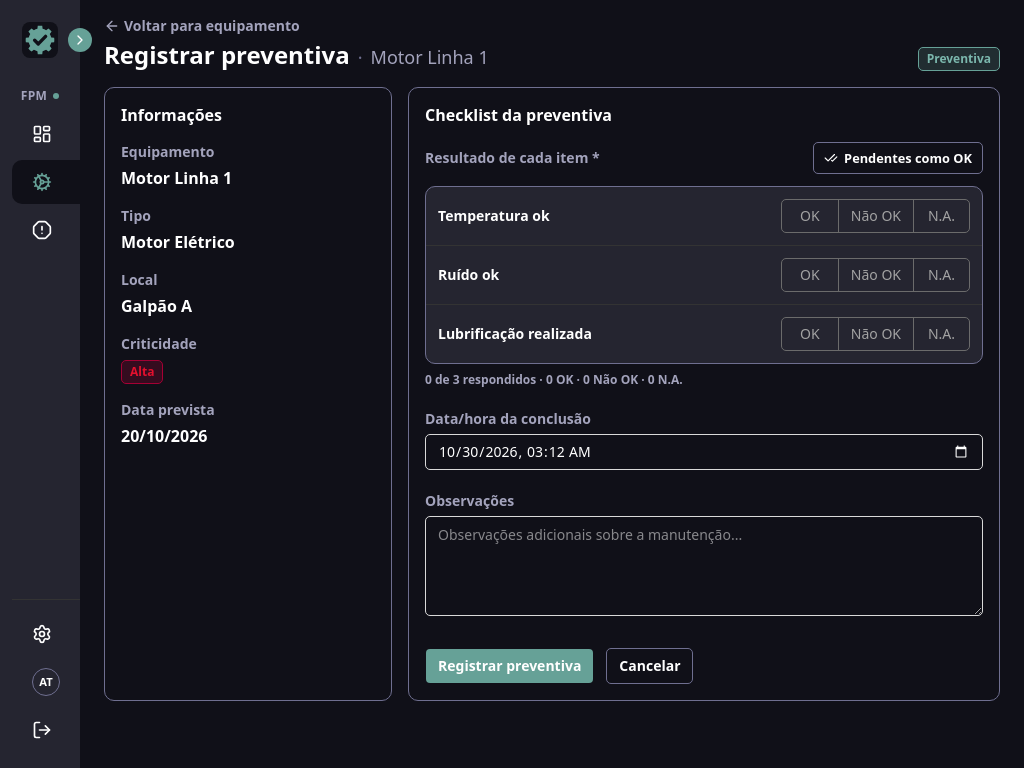
Test case: Registro de manutenção › preventiva › avisa e não envia quando a data da conclusão está vazia
Click the radio button labelled "OK" in the row of "Ruído ok" at [810, 275], box [782,259,838,291]
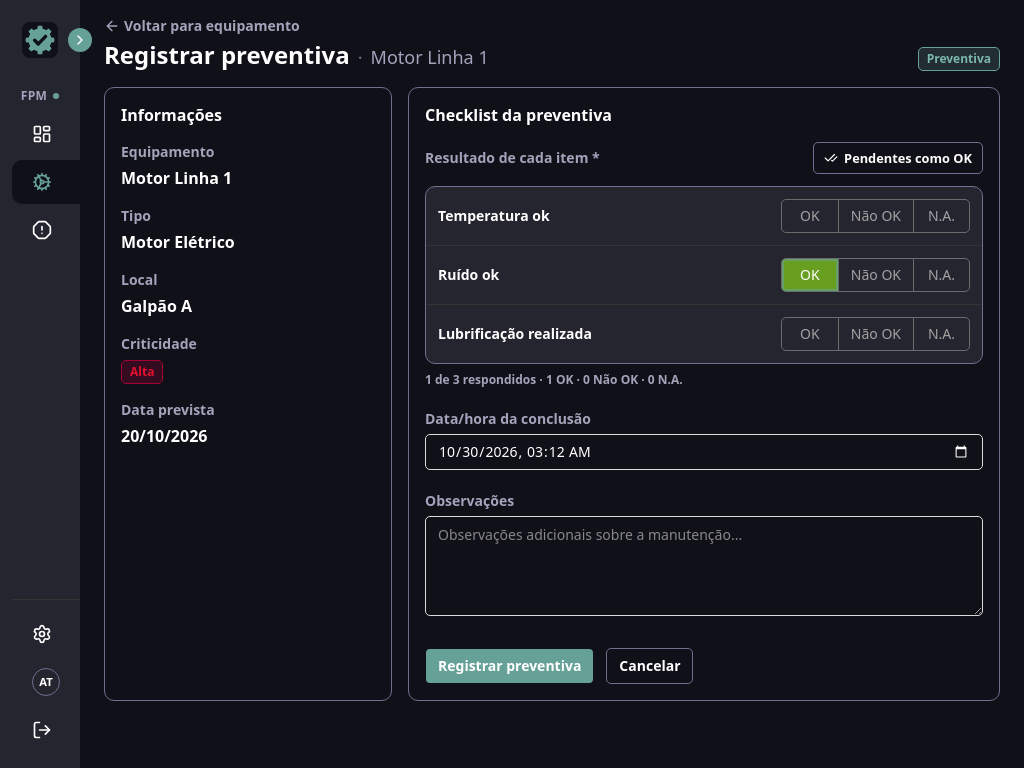
Click the button "Pendentes como OK" at [898, 158], box [813,142,983,174]
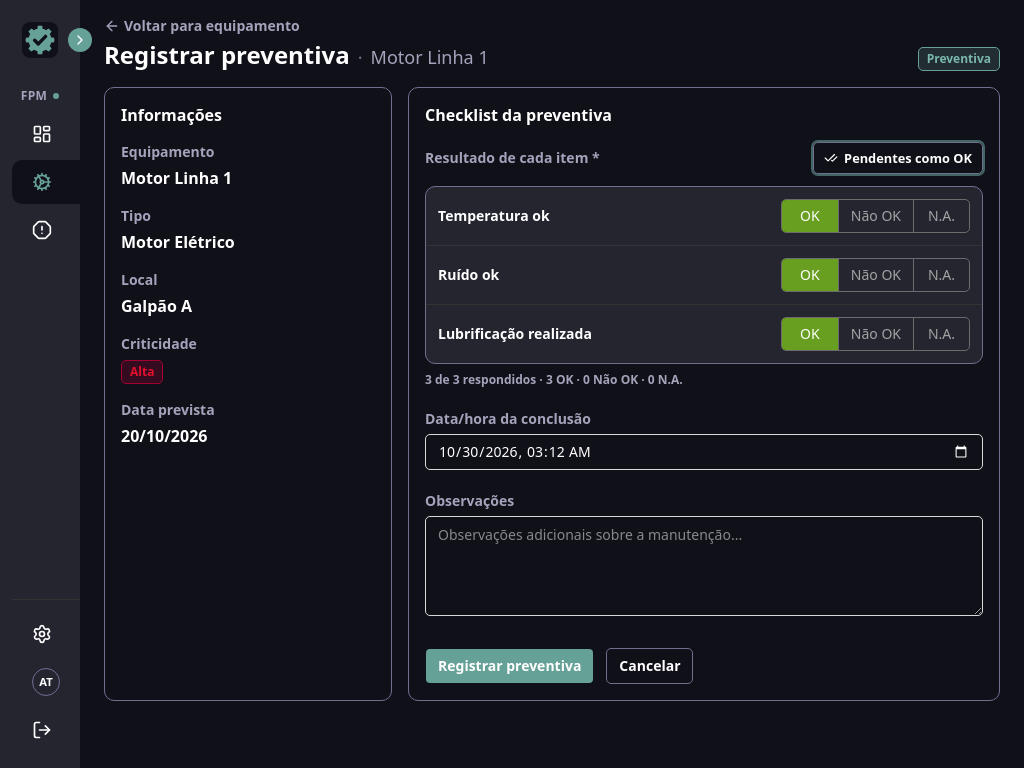
Clear the field labelled "Data/hora da conclusão" at [704, 452], box [425,434,983,470]
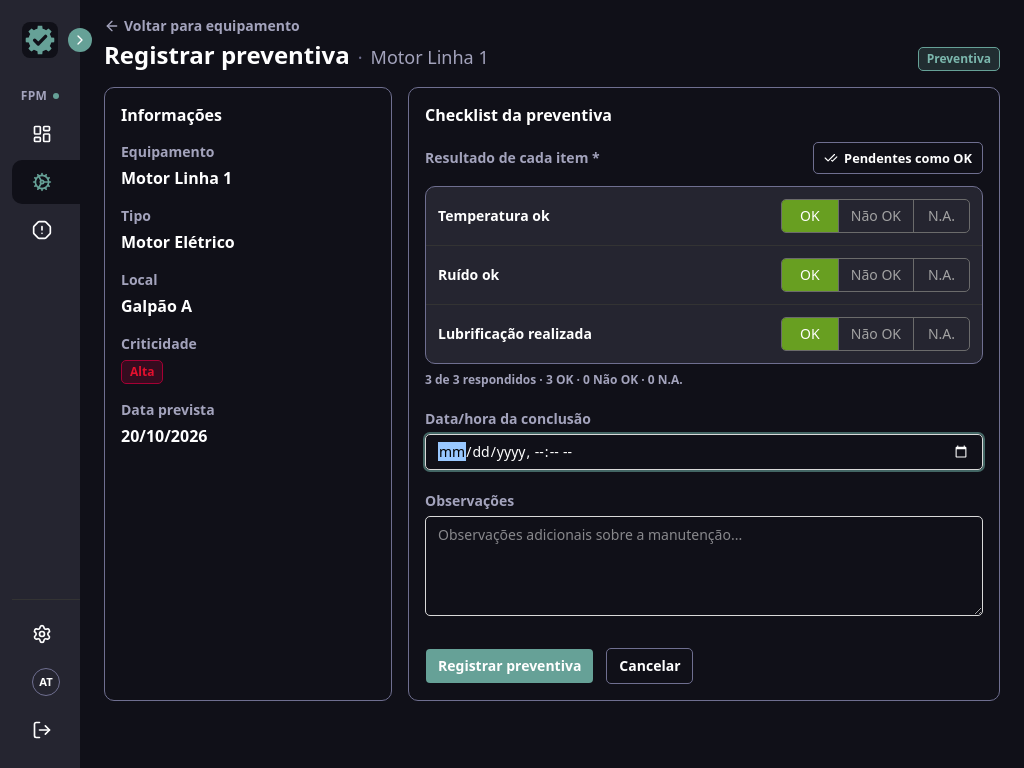
Click the button "Registrar preventiva" at [510, 666], box [425,648,594,684]
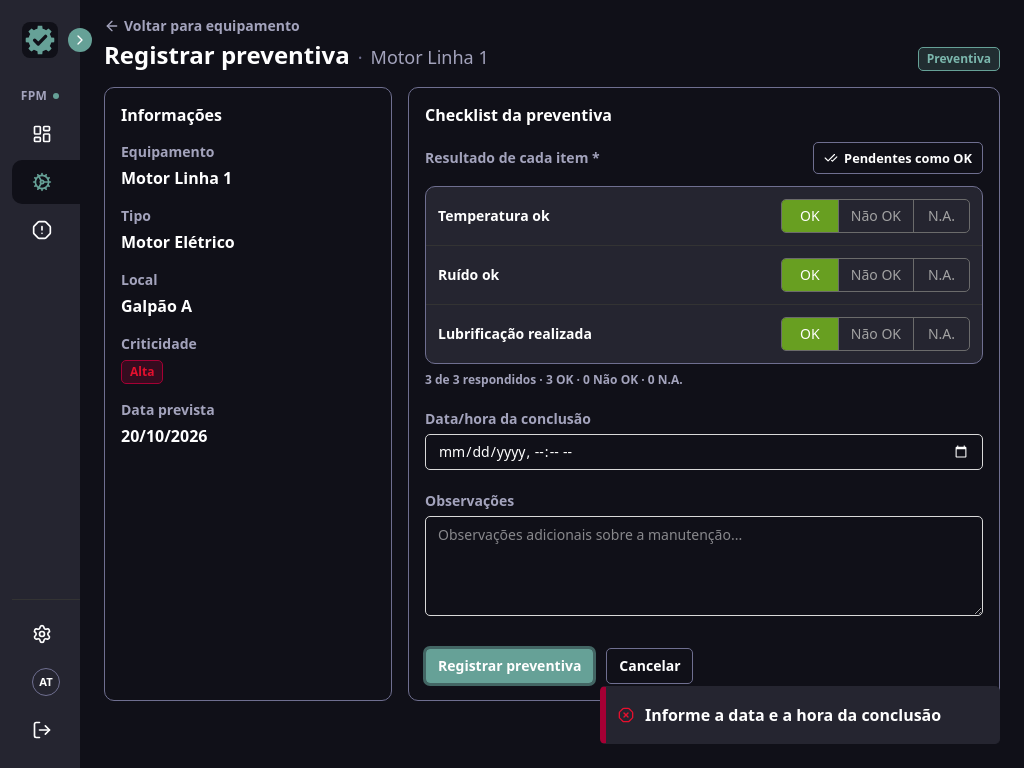
Expected: the text "Informe a data e a hora da conclusão" is shown, [645,703,941,727]
